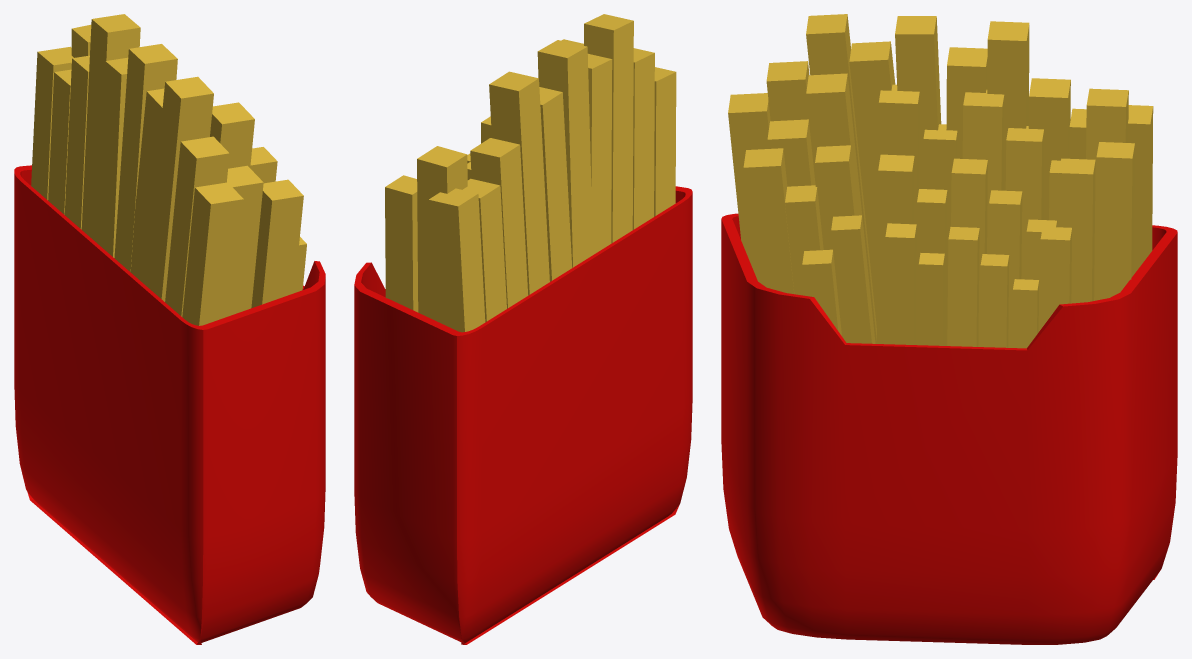
File: Fries.glb
3 views of the same model, side by side, from view 1: azimuth 30°, elevation 25°; view 2: azimuth 150°, elevation 25°; view 3: azimuth 270°, elevation 25° (orthographic). The views are drawn at different scales.
Visible parts, largest first — view 1: Plane.008; view 2: Plane.008; view 3: Plane.008.
Boxes of the visible parts, box(x1,y1,x2,y2) form: Plane.008: box(14, 14, 325, 644); Plane.008: box(354, 14, 692, 644); Plane.008: box(721, 14, 1177, 644).
Size of the model in its own units: 0.4959 by 1.39 by 1.02.
